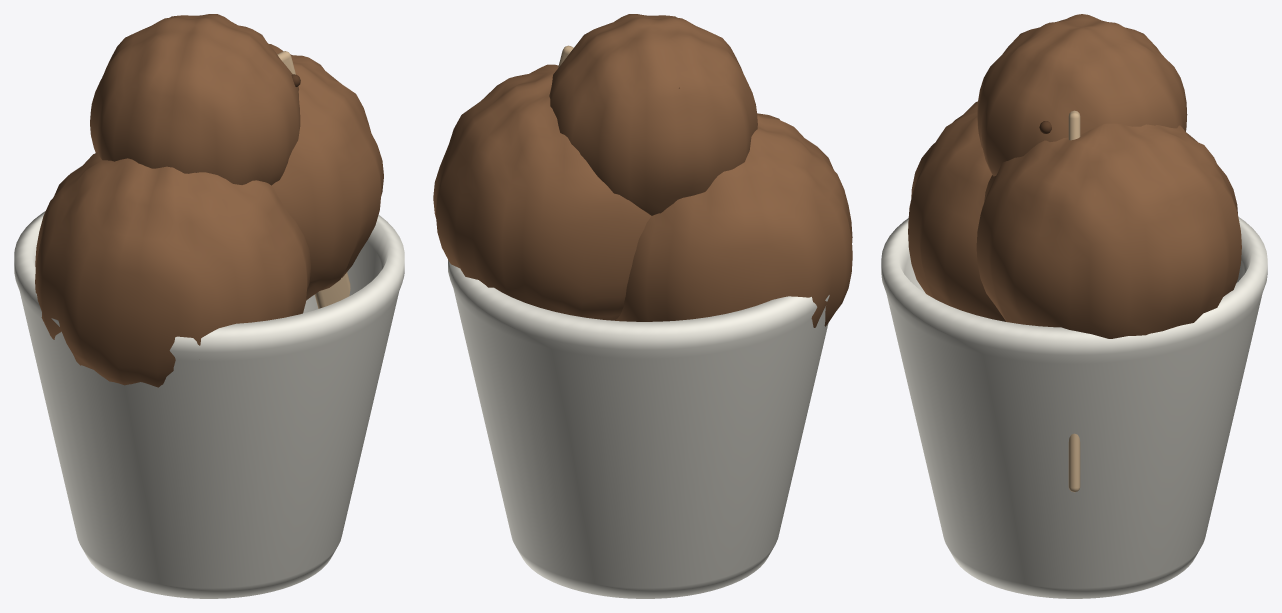
Rendered from icecream_chocolate.glb.
3 renders of one model, left to right at view 1: azimuth 30°, elevation 25°; view 2: azimuth 150°, elevation 25°; view 3: azimuth 270°, elevation 25°, orthographic. The views are drawn at different scales.
Parts seen in each view (by area): view 1: lathe, bola_cremosa, bola_cremosa.002, bola_cremosa.001, Cube; view 2: lathe, bola_cremosa.001, bola_cremosa, bola_cremosa.002; view 3: lathe, bola_cremosa.001, bola_cremosa.002, bola_cremosa, Cube.
Boxes of the visible parts, x1,y1,x2,y2 form: lathe: (14, 211, 404, 598); bola_cremosa: (35, 152, 310, 387); bola_cremosa.002: (90, 14, 300, 185); bola_cremosa.001: (269, 44, 383, 300); Cube: (277, 51, 350, 308); lathe: (448, 260, 829, 598); bola_cremosa.001: (433, 64, 651, 320); bola_cremosa: (615, 113, 852, 327); bola_cremosa.002: (549, 14, 757, 215); lathe: (881, 217, 1267, 598); bola_cremosa.001: (976, 123, 1241, 338); bola_cremosa.002: (977, 14, 1187, 176); bola_cremosa: (908, 101, 1005, 321); Cube: (1068, 110, 1080, 492).
Bounding box in the file's own units: 0.1031 × 0.1477 × 0.1.
